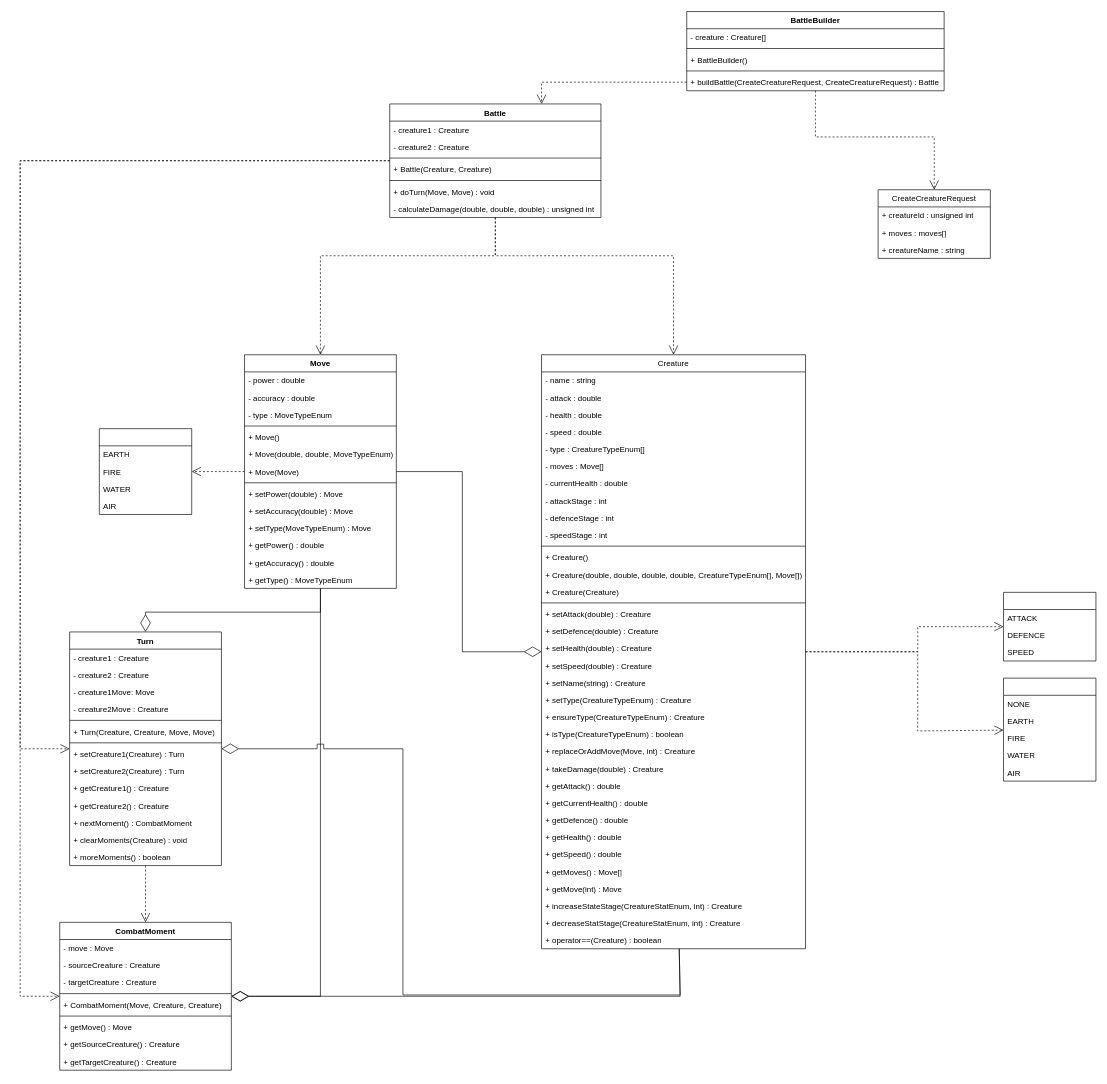
Image size: 1107x1084. Some labels were removed from this diagram. Each missing label, with the box of its shape:
CreatureStatEnum: (1003, 592, 1096, 661)
CreatureTypeEnum: (1003, 677, 1096, 781)
MoveTypeEnum: (99, 428, 192, 514)
